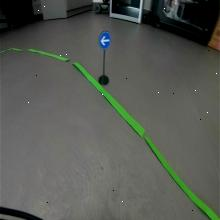left: (99, 30, 111, 50)
